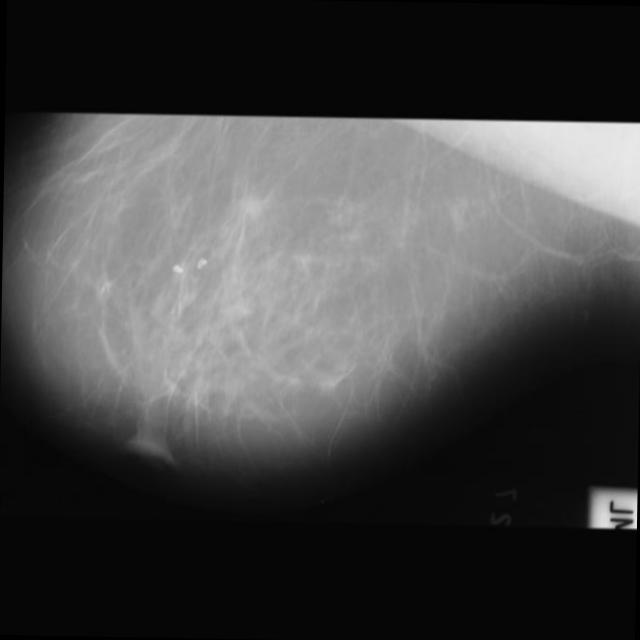SPIC: (238, 196, 264, 222)
